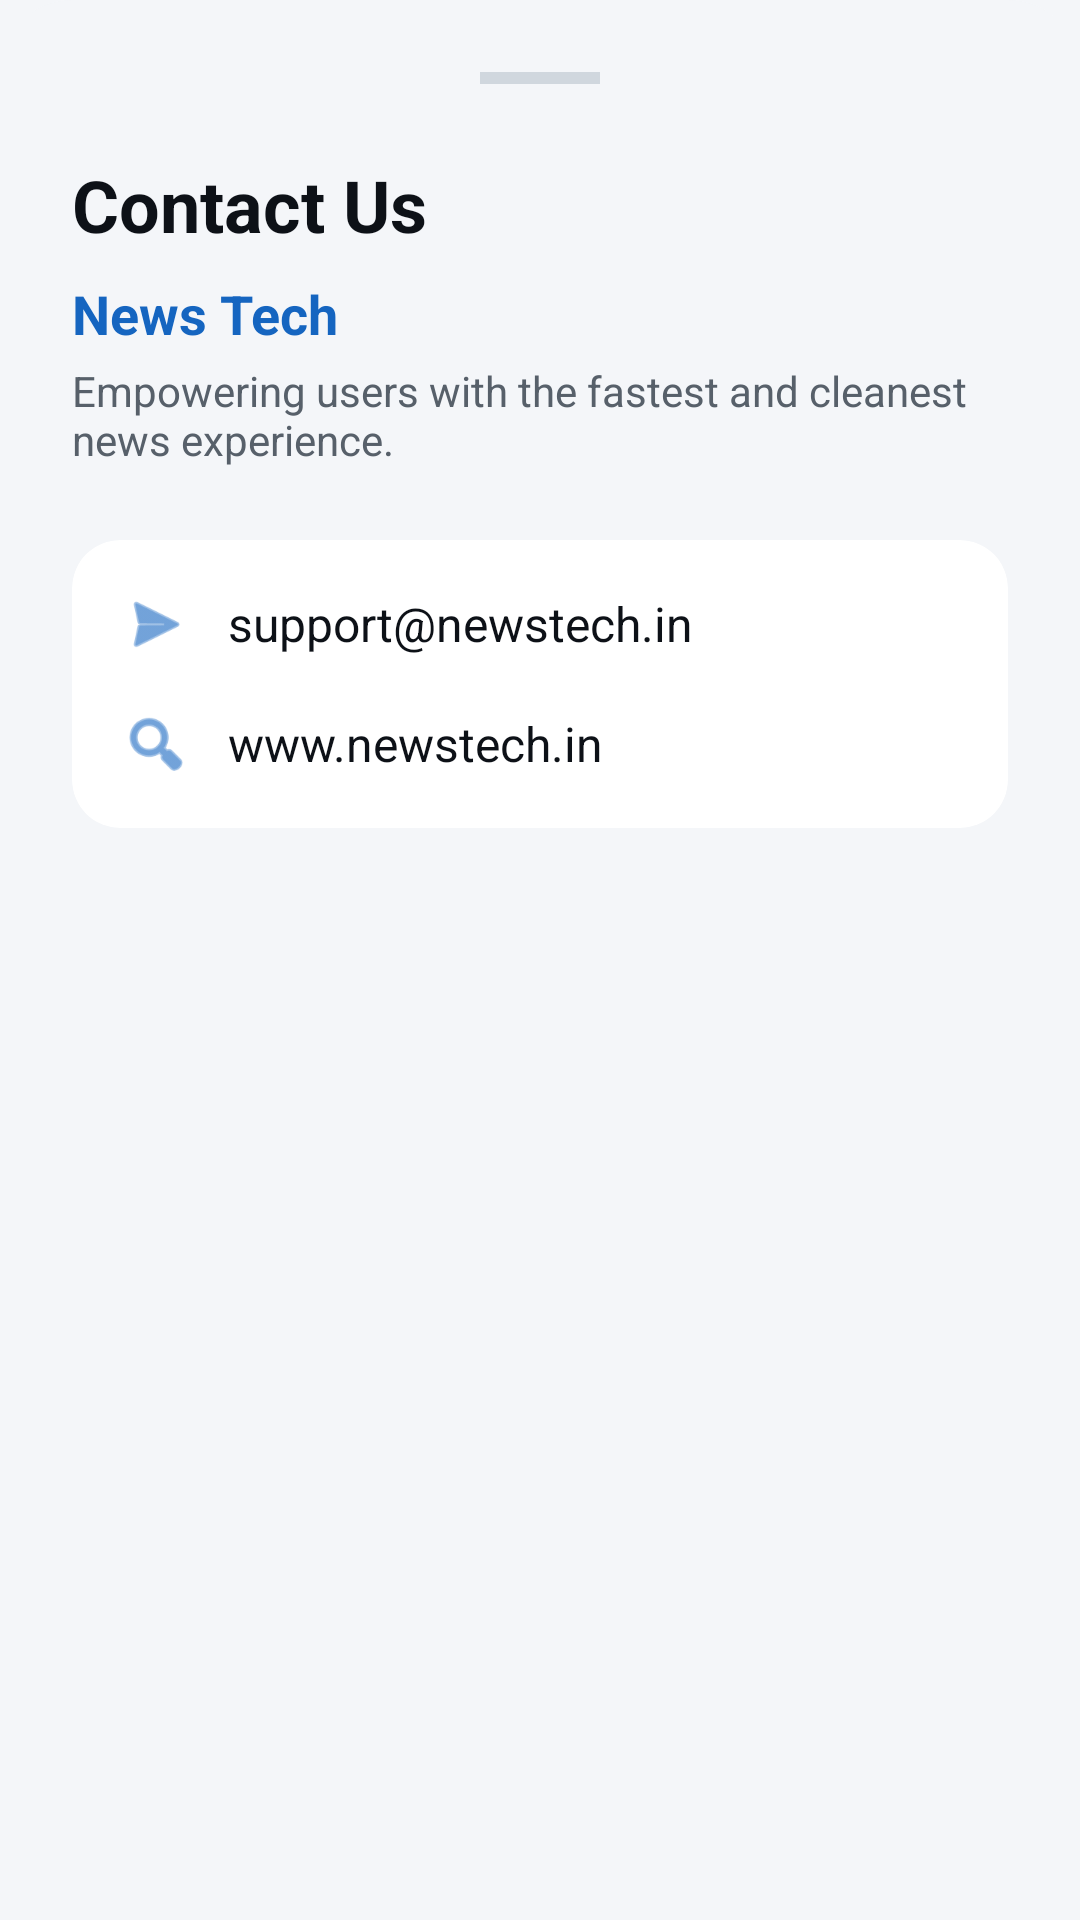

Screen size 1080px x 1920px. Icon name, then its box in pixels as (left=x1, top=y1, right=x2, bottom=y2):
search: (left=129, top=718, right=183, bottom=771)
send: (left=134, top=602, right=180, bottom=647)
